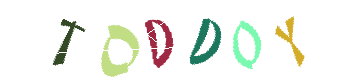0: (113, 0, 193, 80)
D: (119, 0, 199, 80), (135, 0, 215, 80)
O: (201, 0, 281, 80)
T: (88, 0, 168, 80)
Y: (250, 0, 330, 80)
